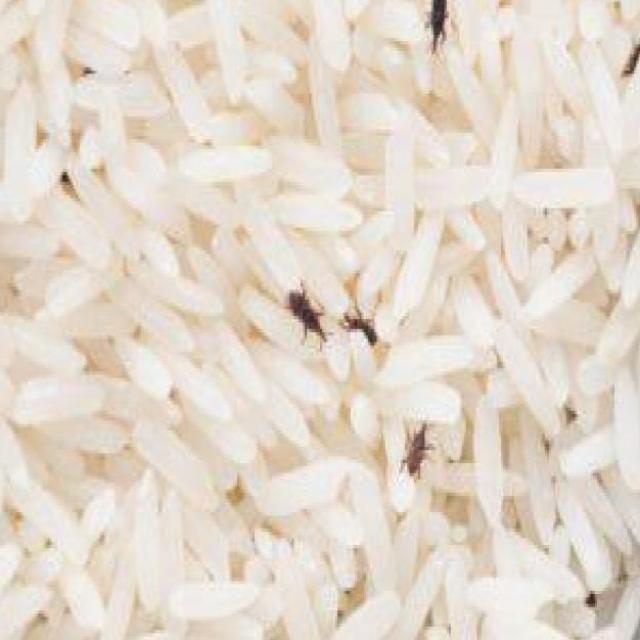ricebug: (287, 290, 323, 336), (344, 312, 377, 345), (405, 424, 426, 474), (429, 0, 447, 51), (623, 36, 640, 76)
